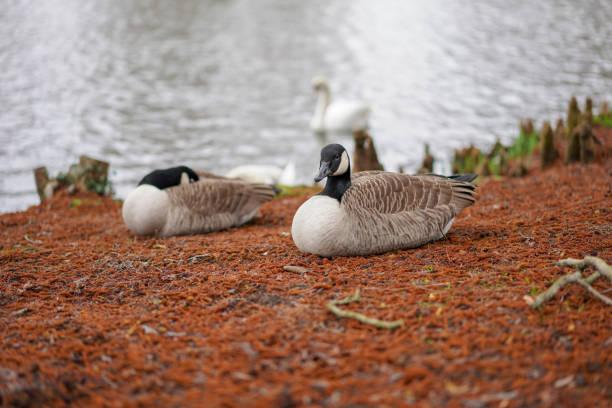Canadian-Goose: (289, 149, 480, 252), (125, 166, 280, 236)
